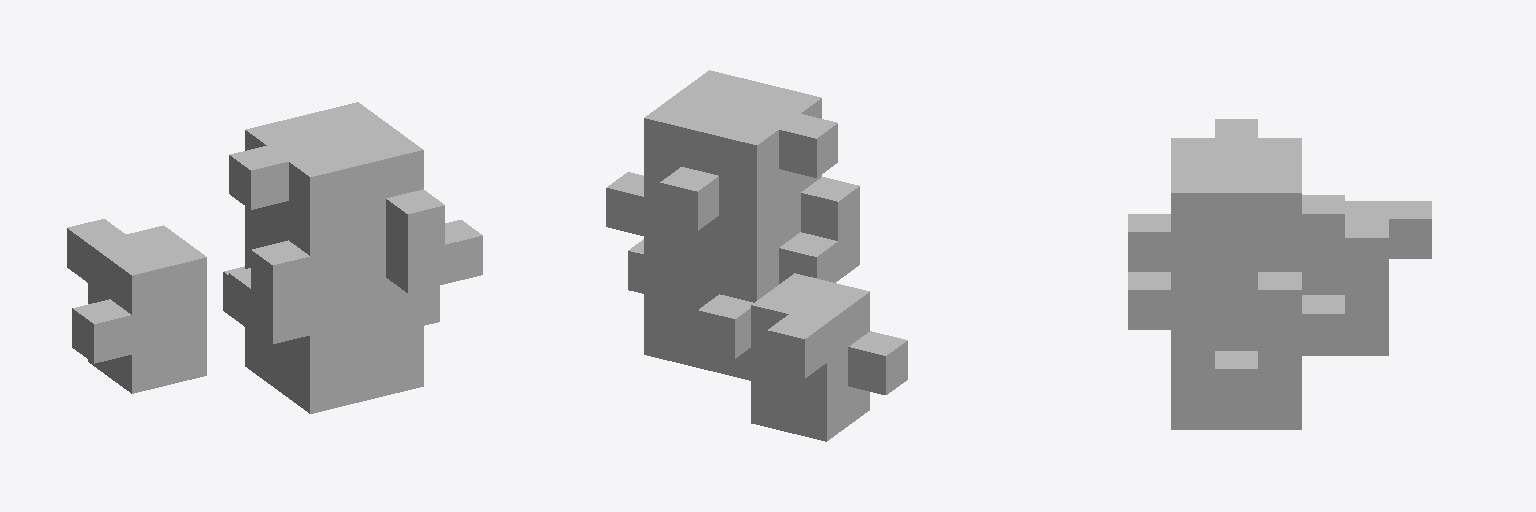
File: cactus1-0.obj
The picture shows the model from 3 angles: view 1: azimuth 30°, elevation 25°; view 2: azimuth 150°, elevation 25°; view 3: azimuth 270°, elevation 25°; orthographic projection.
Visible parts, largest first — view 1: object 1; view 2: object 1; view 3: object 1.
Part boxes in pixels (left/top/right/bottom): object 1: left=67, top=102, right=482, bottom=413; object 1: left=606, top=70, right=907, bottom=441; object 1: left=1128, top=119, right=1431, bottom=429.
Bounding box in the file's own units: 0.8 × 0.6 × 0.7.